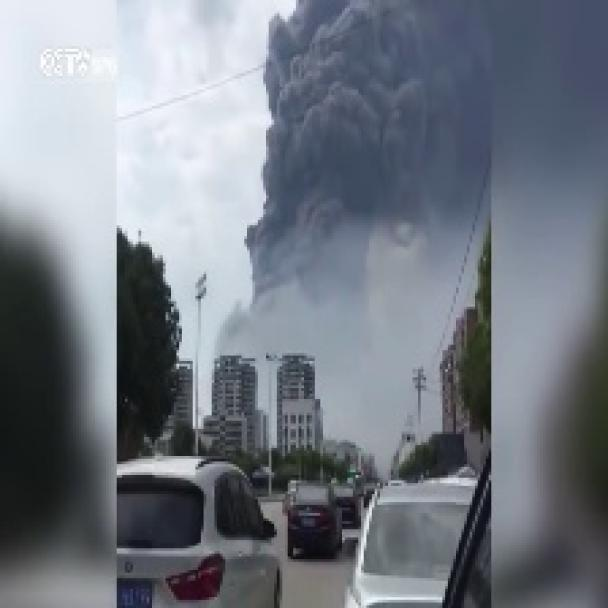smoke: (221, 0, 499, 468)
